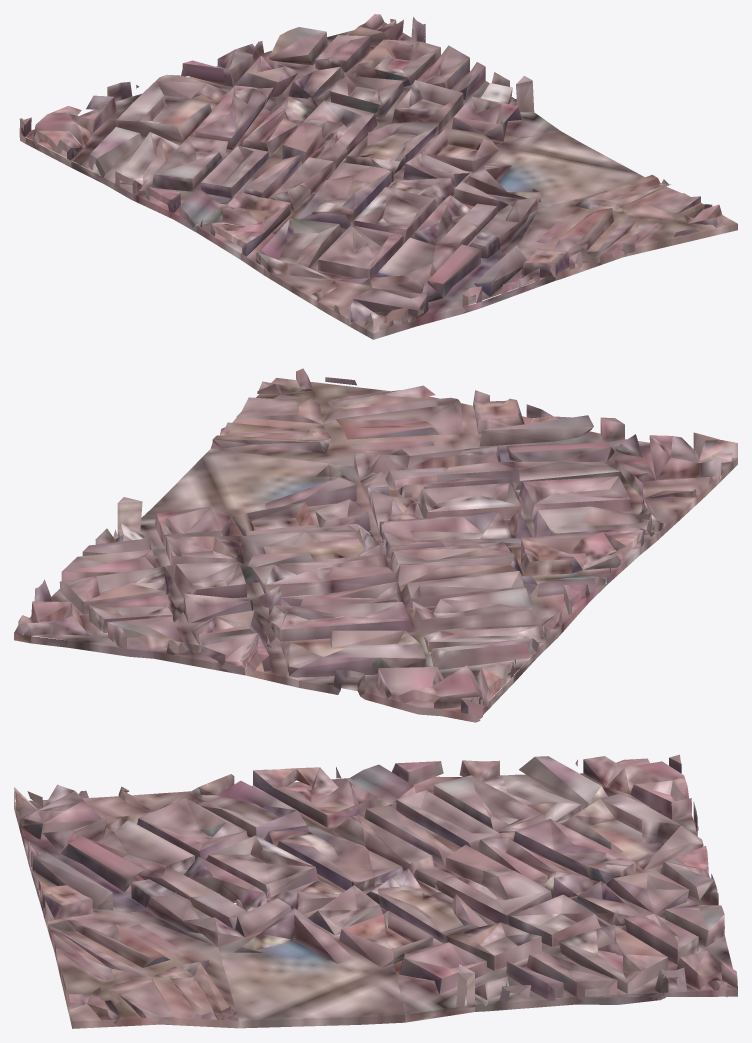
The picture shows the model from 3 angles, top to bottom: view 1: azimuth 30°, elevation 25°; view 2: azimuth 150°, elevation 25°; view 3: azimuth 270°, elevation 25°; orthographic projection. The views are drawn at different scales.
Parts seen in each view (by area): view 1: Mesh_0; view 2: Mesh_0; view 3: Mesh_0.
Part boxes in pixels (x1,y1,x2,y2): Mesh_0: [19, 14, 737, 339]; Mesh_0: [14, 368, 737, 722]; Mesh_0: [14, 754, 737, 1028].
Size of the model in its own units: 540 by 47.15 by 659.
2 materials, 2 textured.
